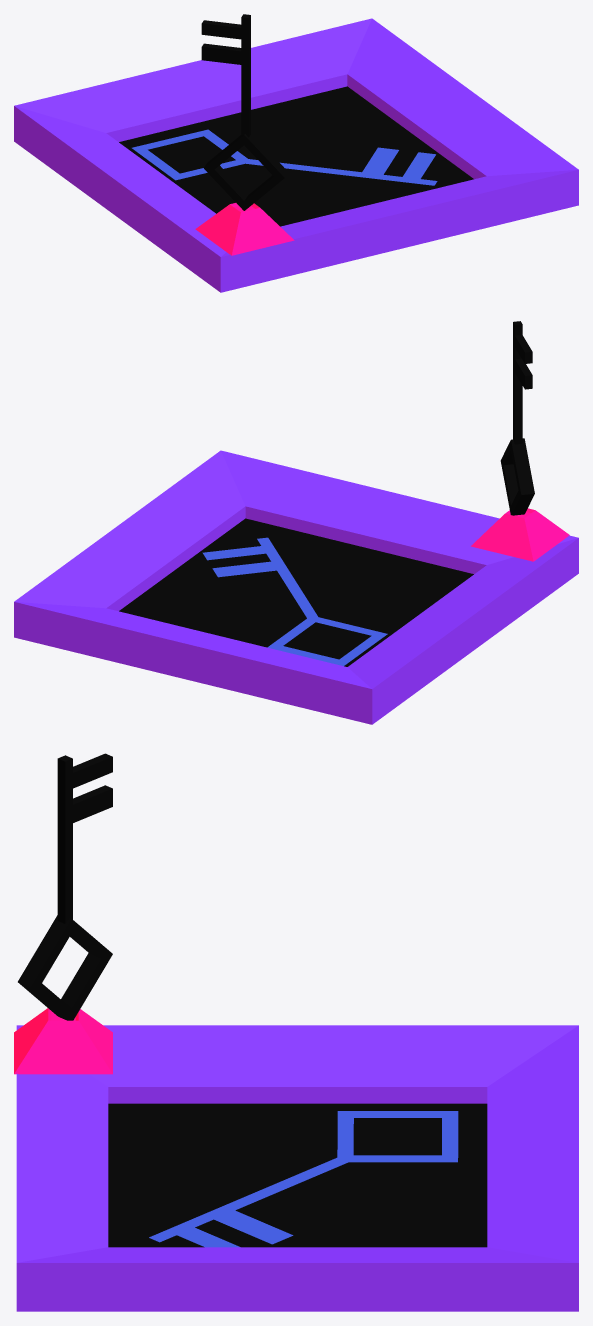
Rendered from simple.fbx.
3 renders of one model, top to bottom at view 1: azimuth 30°, elevation 25°; view 2: azimuth 150°, elevation 25°; view 3: azimuth 270°, elevation 25°, orthographic. The views are drawn at different scales.
Parts seen in each view (by area): view 1: Cube.001, Cube.002, Cube.004, Cube; view 2: Cube.001, Cube.004, Cube.002, Cube; view 3: Cube.001, Cube.002, Cube.004, Cube.
Boxes of the visible parts, x1=… form: Cube.001: x1=14, y1=18, x2=578, y2=292; Cube.002: x1=201, y1=14, x2=288, y2=210; Cube.004: x1=132, y1=129, x2=437, y2=185; Cube: x1=195, y1=203, x2=294, y2=255; Cube.001: x1=14, y1=450, x2=578, y2=724; Cube.004: x1=202, y1=537, x2=387, y2=666; Cube.002: x1=500, y1=321, x2=534, y2=515; Cube: x1=471, y1=508, x2=569, y2=561; Cube.001: x1=16, y1=1025, x2=578, y2=1311; Cube.002: x1=18, y1=753, x2=112, y2=1020; Cube.004: x1=149, y1=1111, x2=458, y2=1247; Cube: x1=14, y1=1008, x2=112, y2=1074.
Size of the model in its own units: 1428 by 964 by 1435.
